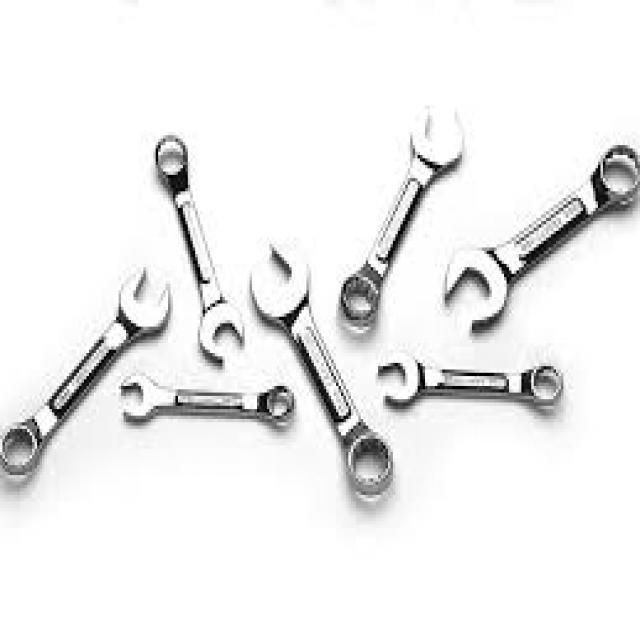wrench: (245, 235, 400, 510), (0, 256, 174, 484), (440, 140, 640, 338), (336, 94, 468, 334), (152, 124, 248, 368), (374, 344, 570, 429), (116, 366, 300, 434)
